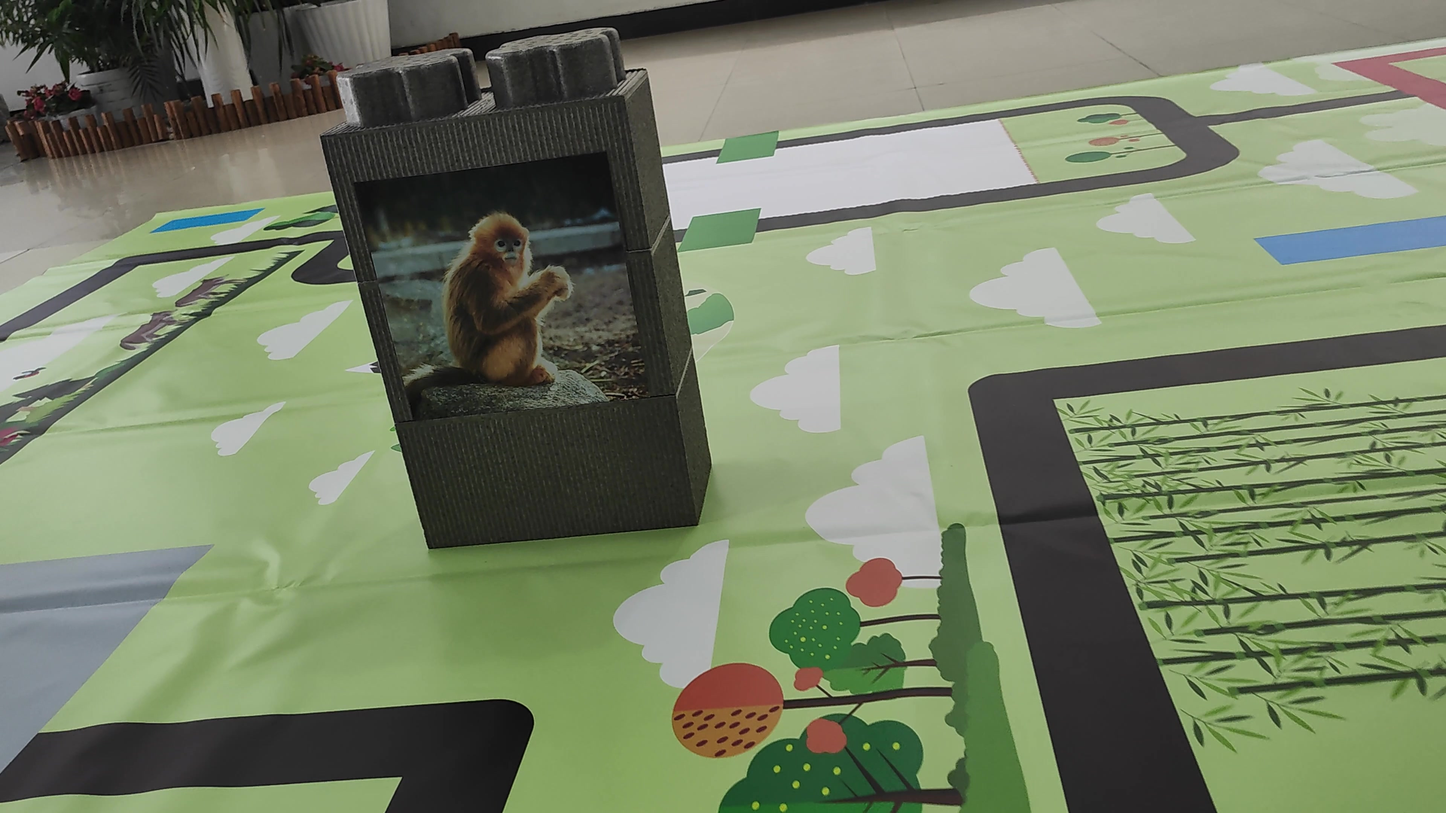monkey: (383, 192, 596, 408)
